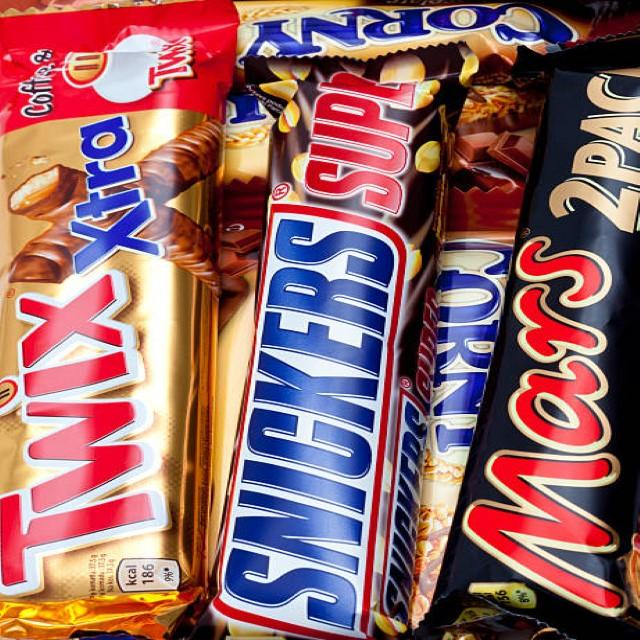mars_chocolate: (480, 65, 640, 632)
snickers_chocolate: (256, 101, 398, 640)
